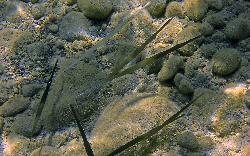Fistularia commersonii: (18, 3, 129, 77), (84, 16, 197, 78)
